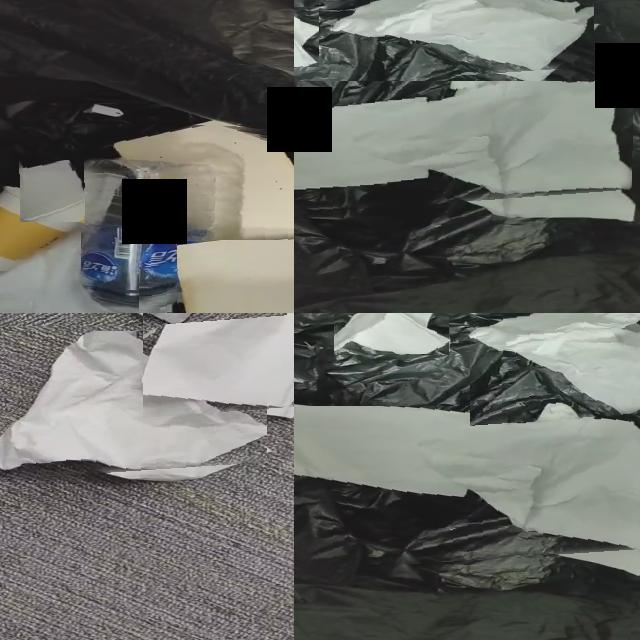bottle: (82, 160, 209, 313)
carton: (115, 125, 294, 240), (177, 230, 294, 313)
dixie_cup: (0, 187, 81, 270)
paper: (294, 406, 640, 555), (294, 81, 633, 200), (0, 331, 267, 471), (332, 0, 594, 74), (470, 313, 640, 417), (143, 313, 294, 410), (0, 237, 115, 313), (336, 313, 449, 354), (21, 163, 84, 222)
